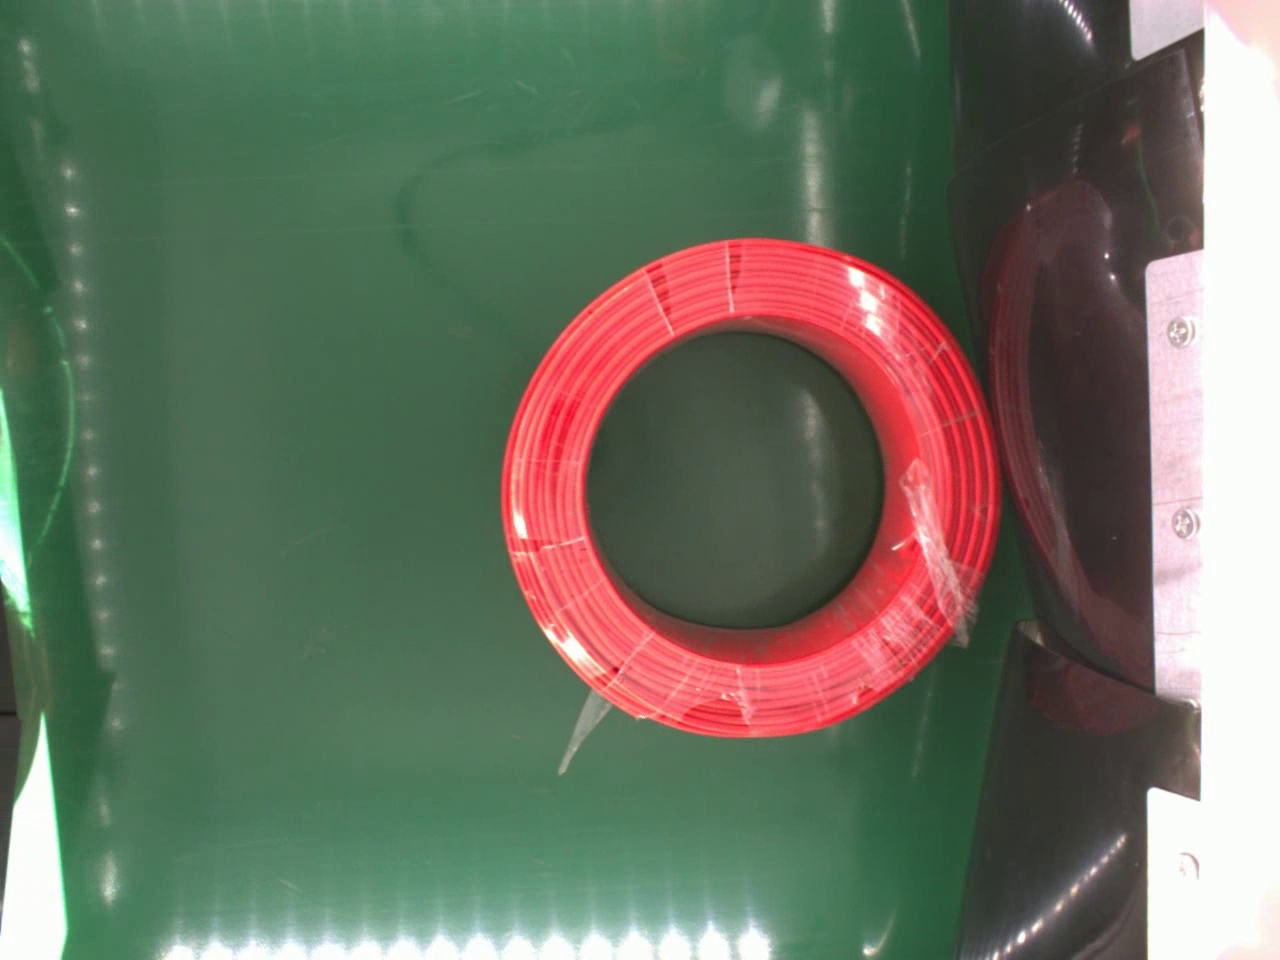red: (496, 236, 998, 735)
